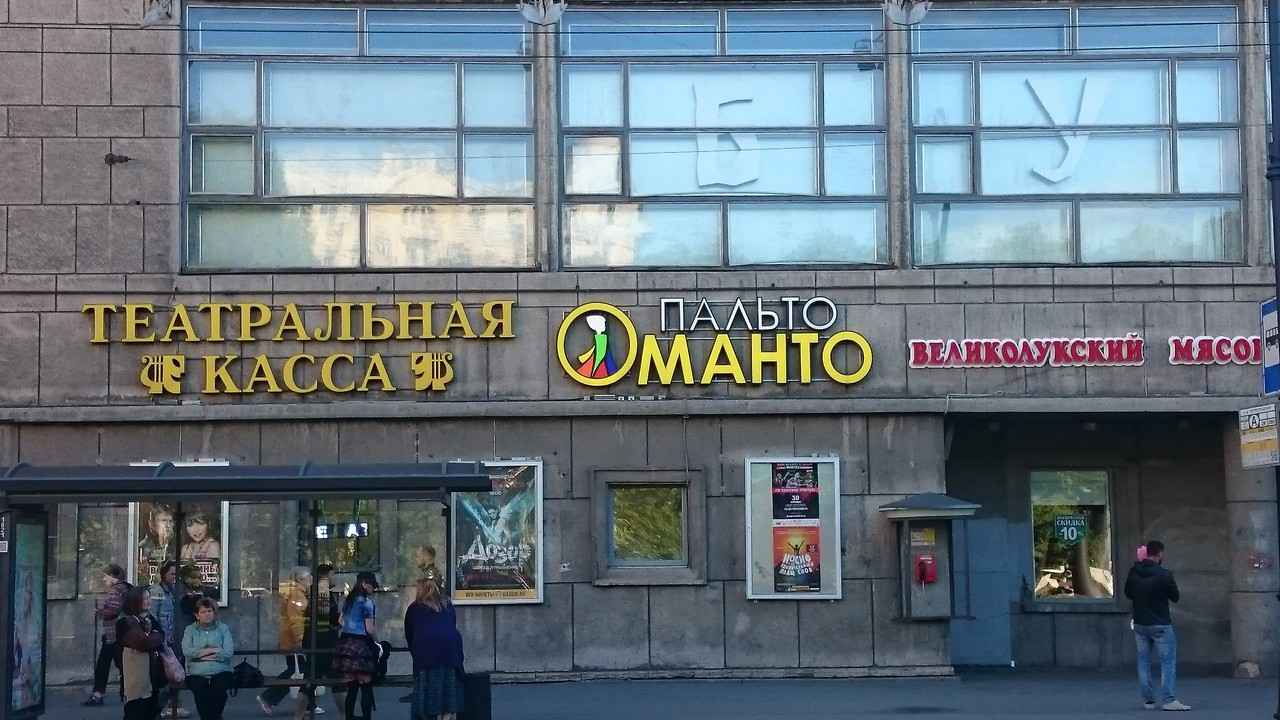signboard: (83, 301, 514, 395), (557, 297, 872, 387), (909, 337, 1262, 367)
window: (183, 7, 537, 275), (558, 2, 887, 275), (912, 5, 1242, 268), (604, 482, 688, 571)
